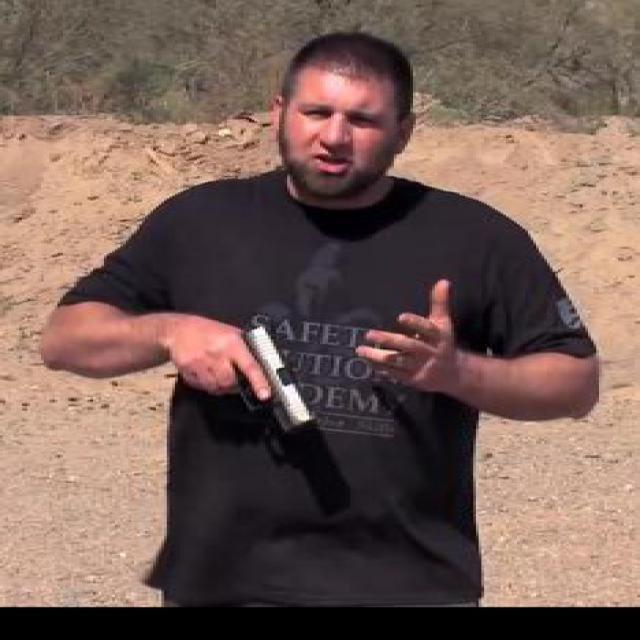weapon: (235, 325, 318, 440)
